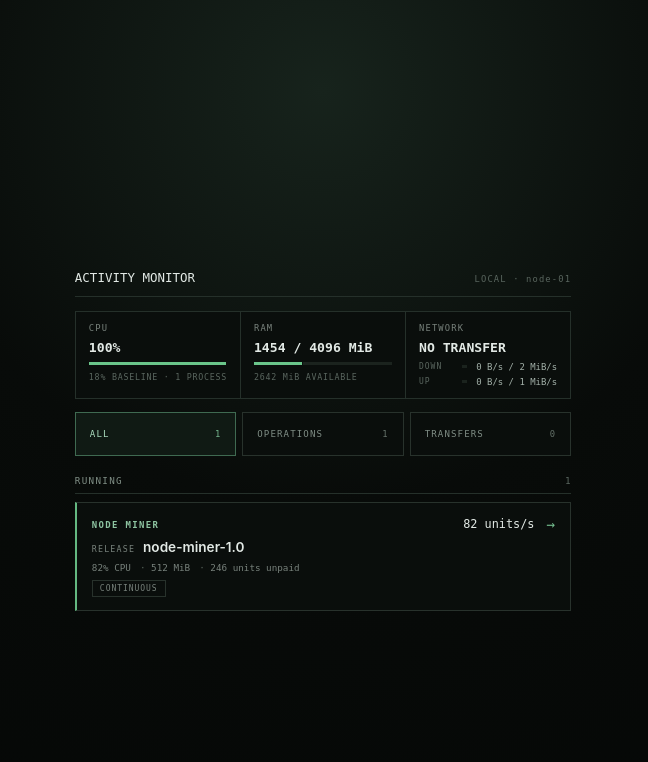
Test: Activity Monitor: continuous NODE Miner runtime › derives gross produced and unpaid production from real deterministic elapsed compute
Click the button with class "am-row" at (126,524), box [75, 502, 571, 610]
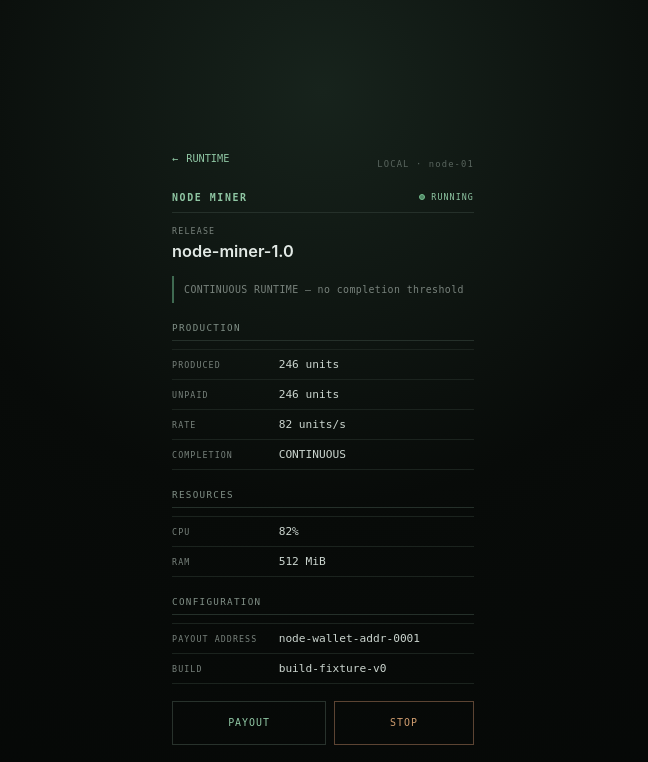
Expected: the text "82 units/s" is shown, [279, 418, 346, 430]
Now the text "246 units" next to "PRODUCED" is shown, box [279, 358, 339, 370]
